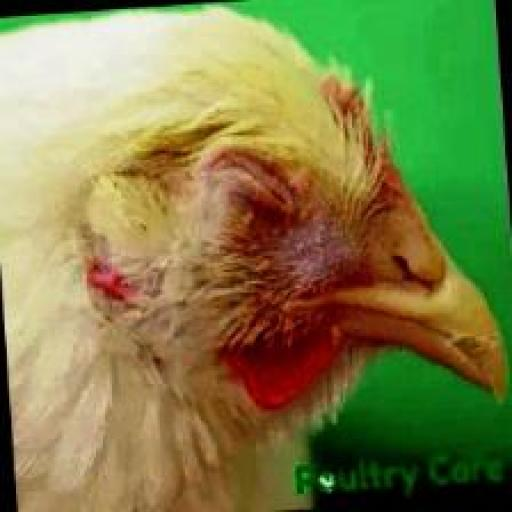disease: (204, 108, 324, 217), (287, 219, 354, 296)
